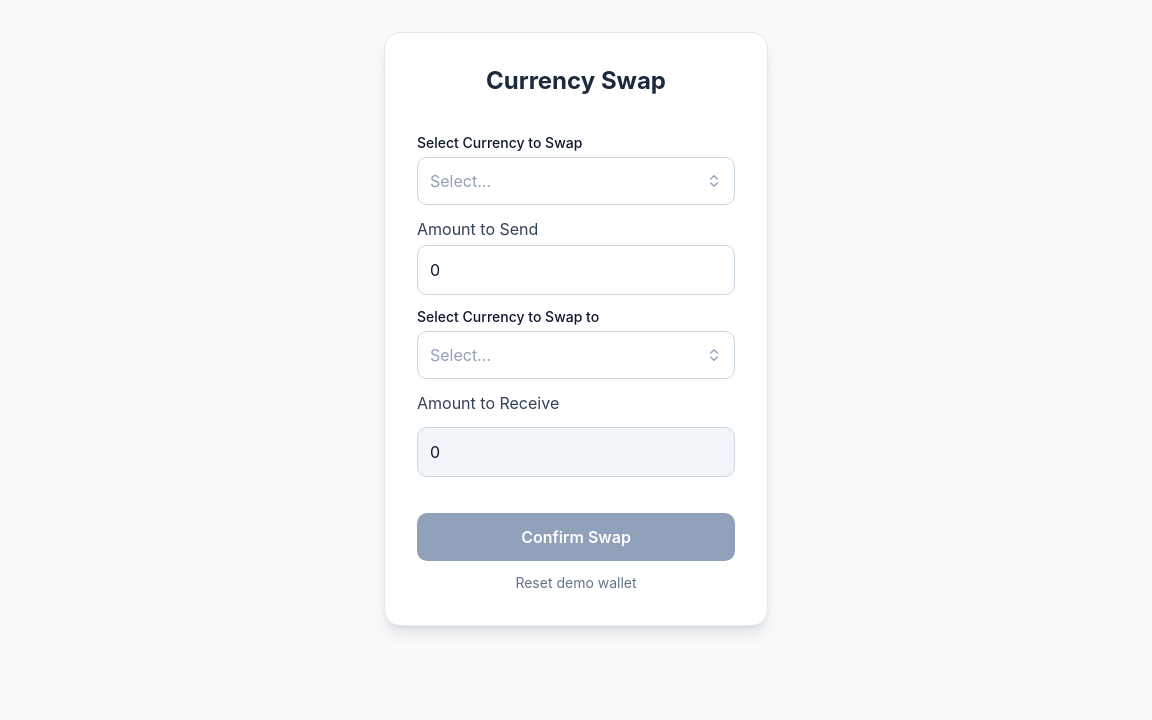
Test case: Swap form › blocks swapping more than the balance
Click the dropdown named "Select Currency to Swap" at (460, 181), box [417, 157, 735, 205]
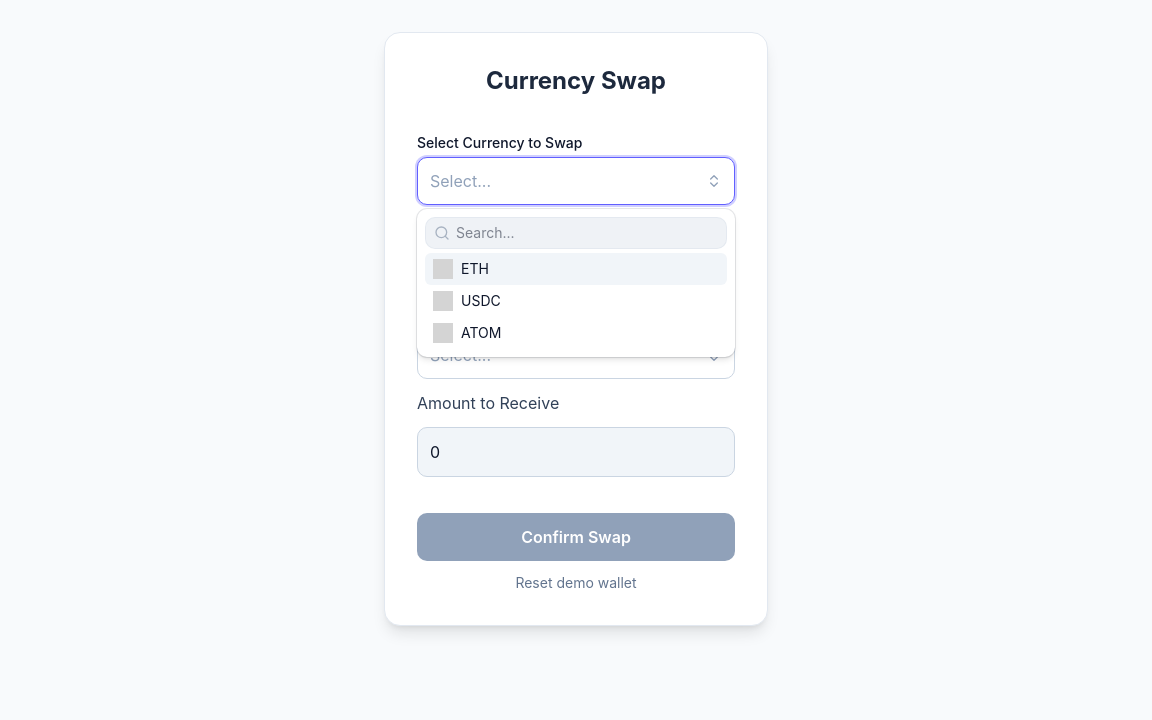
Click the option "ETH" at (443, 269), box [425, 253, 727, 285]
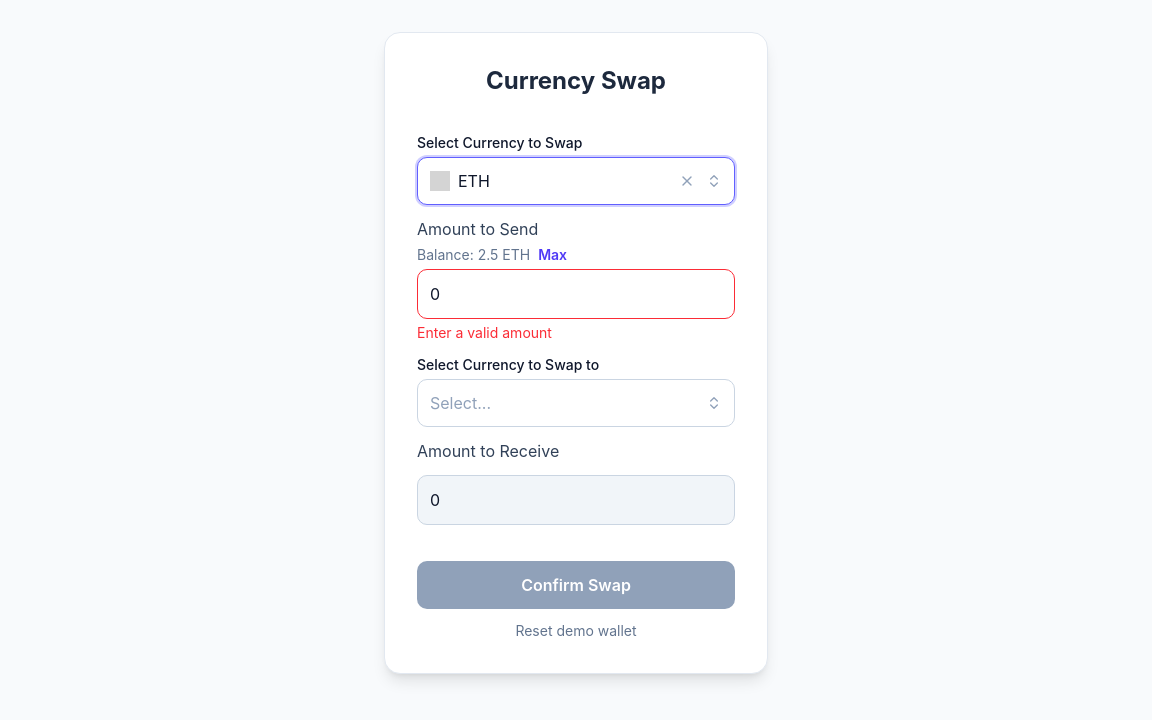
Click the dropdown named "Select Currency to Swap to" at (460, 403), box [417, 379, 735, 427]
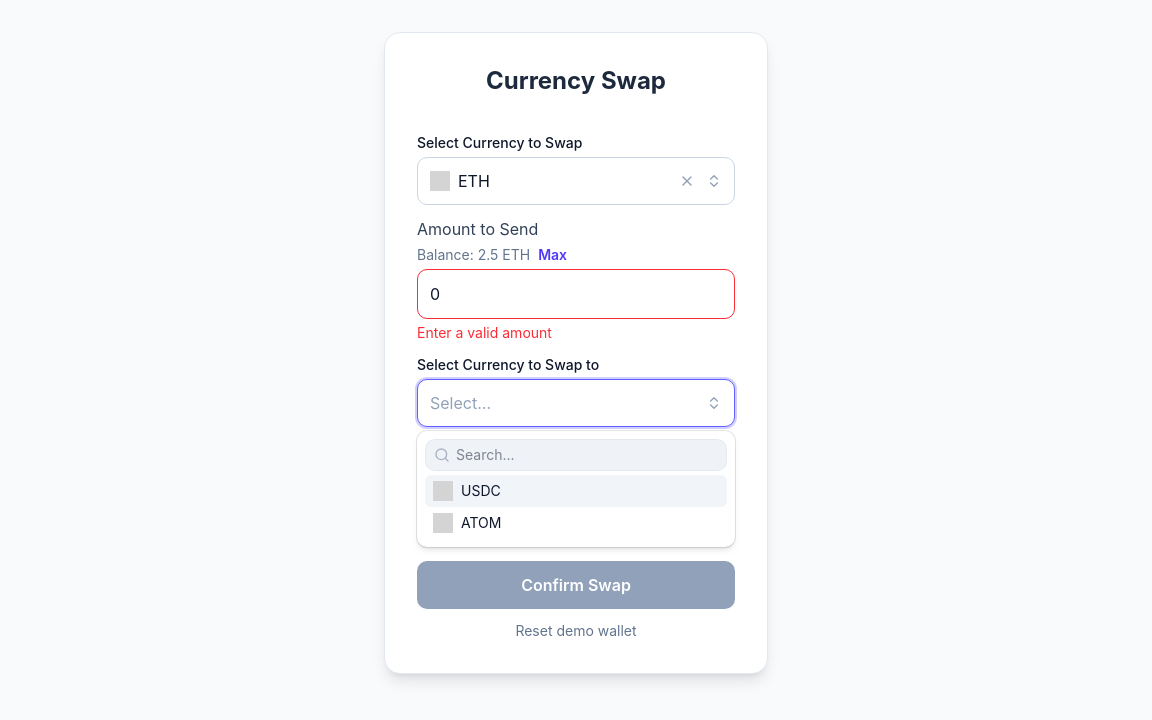
Click the option "USDC" at (481, 490), box [425, 475, 727, 507]
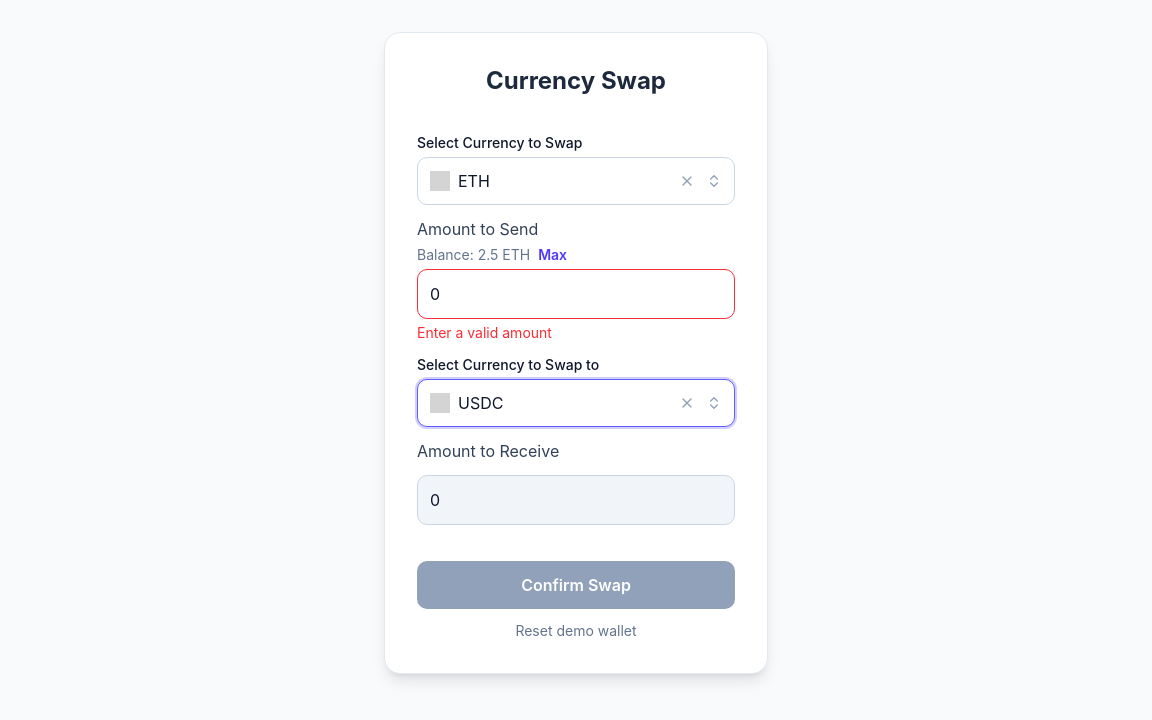
Replace the text in the field labelled "Amount to Send" with "3" at (576, 294), box [417, 269, 735, 319]
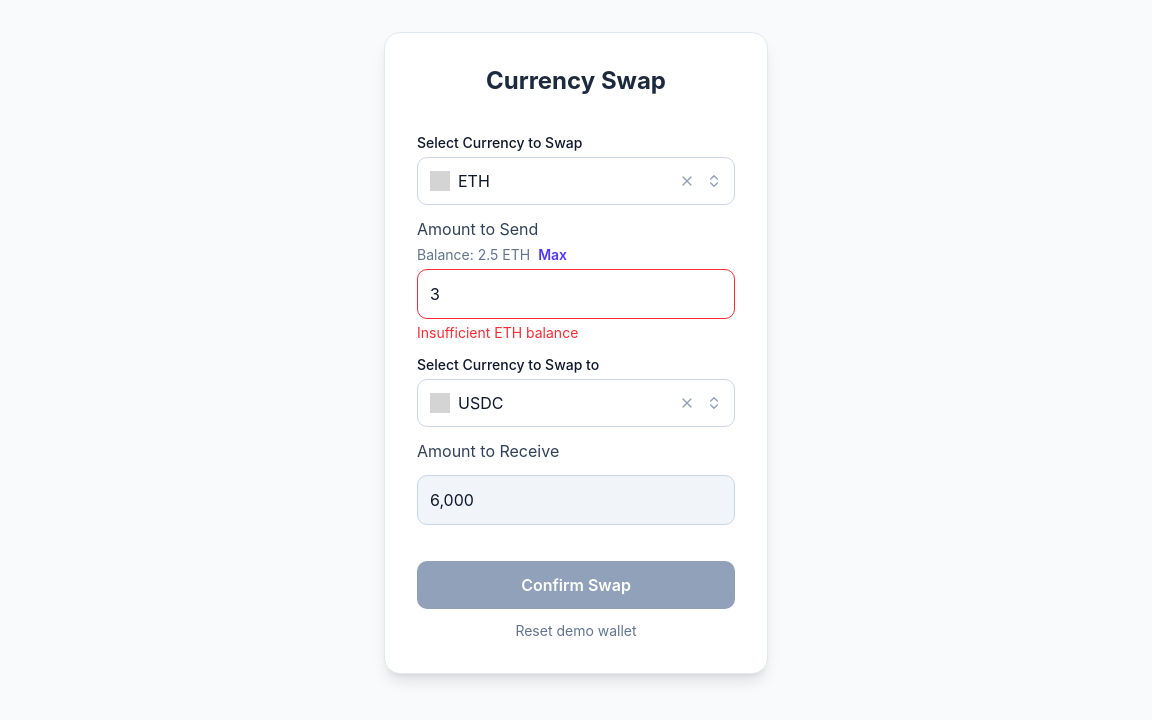
Expected: the button "Confirm Swap" is disabled, [417, 561, 735, 609]
Expected: the text "Insufficient ETH balance" is shown, [417, 324, 578, 341]
